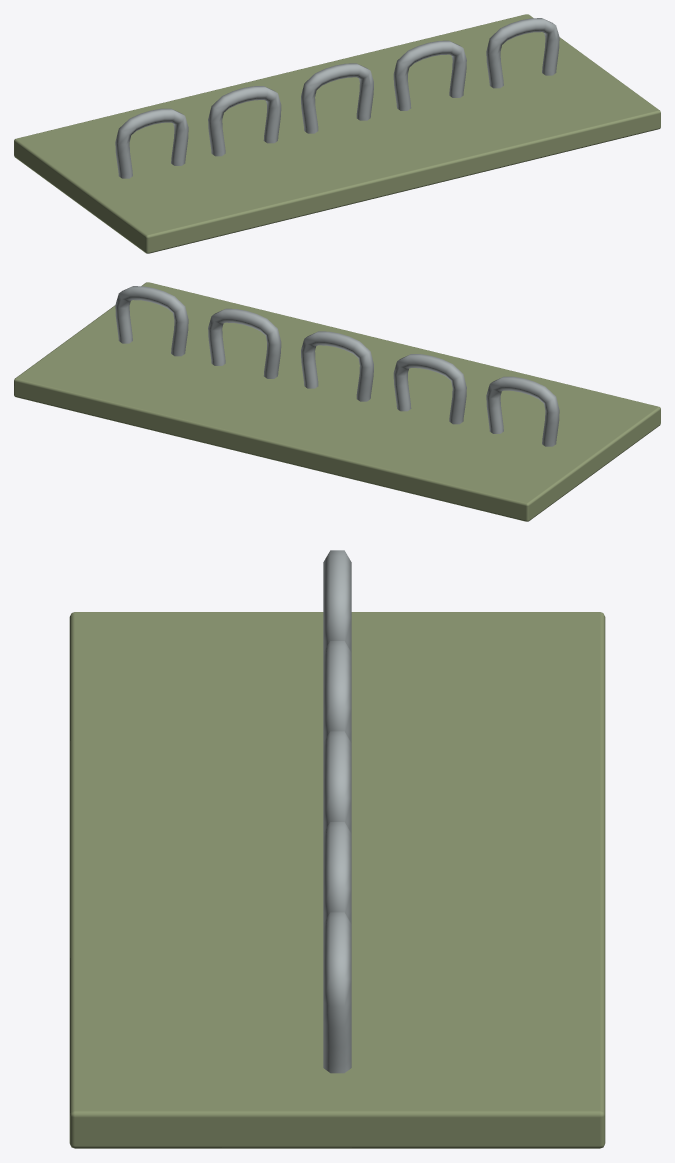
Rendered from survivor-vehicle-maintenance-bonnet-tool-rack-1386bfe9__26671.glb.
The picture shows the model from 3 angles, top to bottom: view 1: azimuth 30°, elevation 25°; view 2: azimuth 150°, elevation 25°; view 3: azimuth 270°, elevation 25°; orthographic projection. The views are drawn at different scales.
Visible parts, largest first — view 1: bonnet-tool-rack; view 2: bonnet-tool-rack; view 3: bonnet-tool-rack.
Boxes of the visible parts, box(x1,y1,x2,y2) form: bonnet-tool-rack: box(14, 14, 660, 253); bonnet-tool-rack: box(14, 282, 660, 521); bonnet-tool-rack: box(69, 550, 605, 1148).
Bounding box in the file's own units: 1 × 0.1423 × 0.45.
